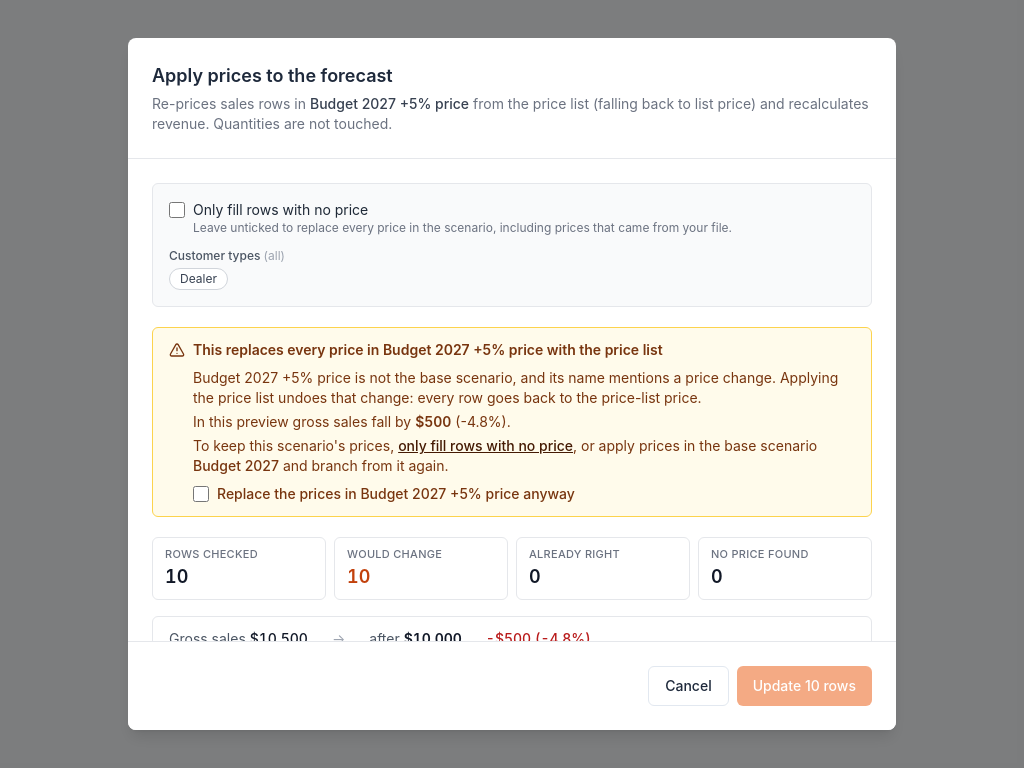
Test: ApplyPricesModal in a branch › warns that replacing every price undoes the branch price change and needs a tick
Expected: the message with test id "apply-prices-warning" shows "This replaces every price in Budget 2027 +5% price with the price list", left=152, top=327, right=872, bottom=517
Expected: the message with test id "apply-prices-warning" shows "Budget 2027 +5% price is not the base scenario, and its name mentions a price change. Applying the price list undoes that change: every row goes back to the pri", left=152, top=327, right=872, bottom=517
Step 1. Click the checkbox labelled "Replace the prices in Budget 2027 +5% price anyway" → (201, 494), box left=193, top=486, right=209, bottom=502
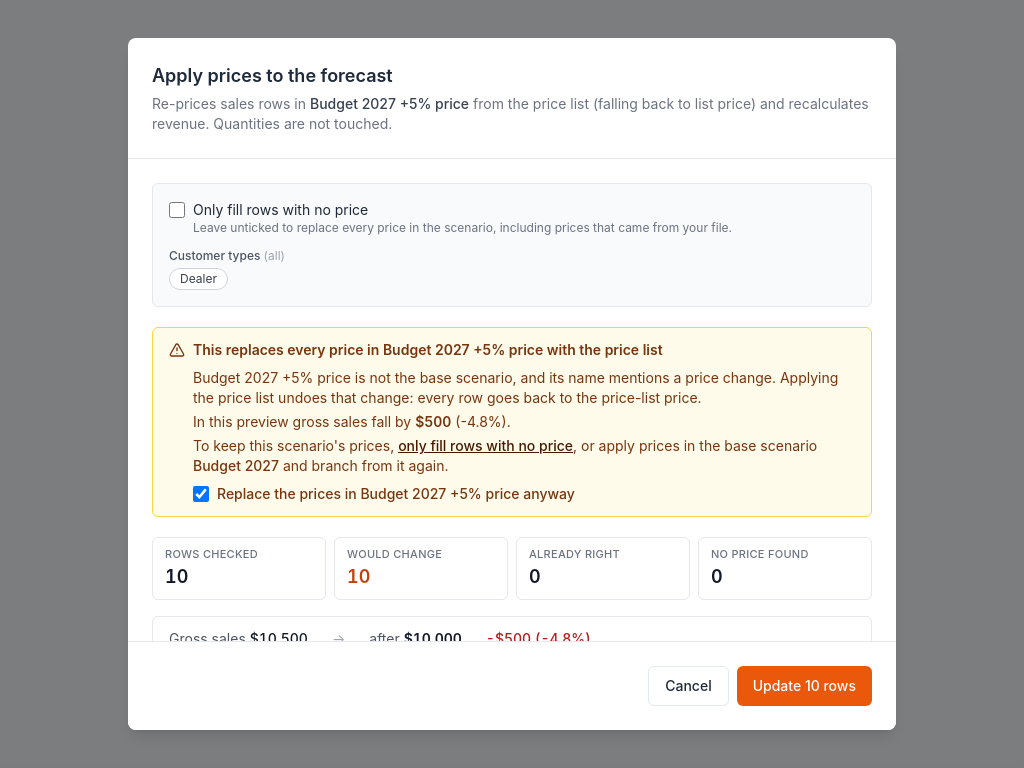
Now the button "Update 10 rows" is enabled, box left=737, top=666, right=872, bottom=706
// "only fill rows with no price" keeps the branch's prices.
Step 2. Click the button "only fill rows with no price" → (486, 446), box left=398, top=436, right=573, bottom=456
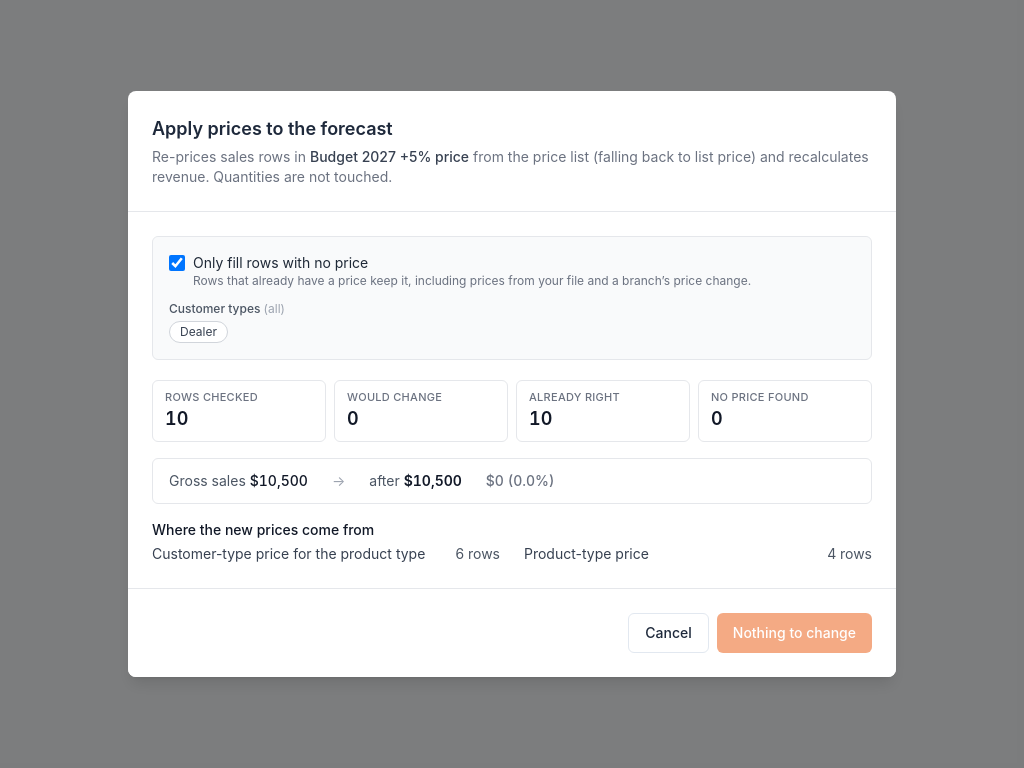
Now the checkbox labelled "Only fill rows with no price" is checked, box left=169, top=255, right=185, bottom=271
Now the message with test id "apply-prices-warning" is gone
